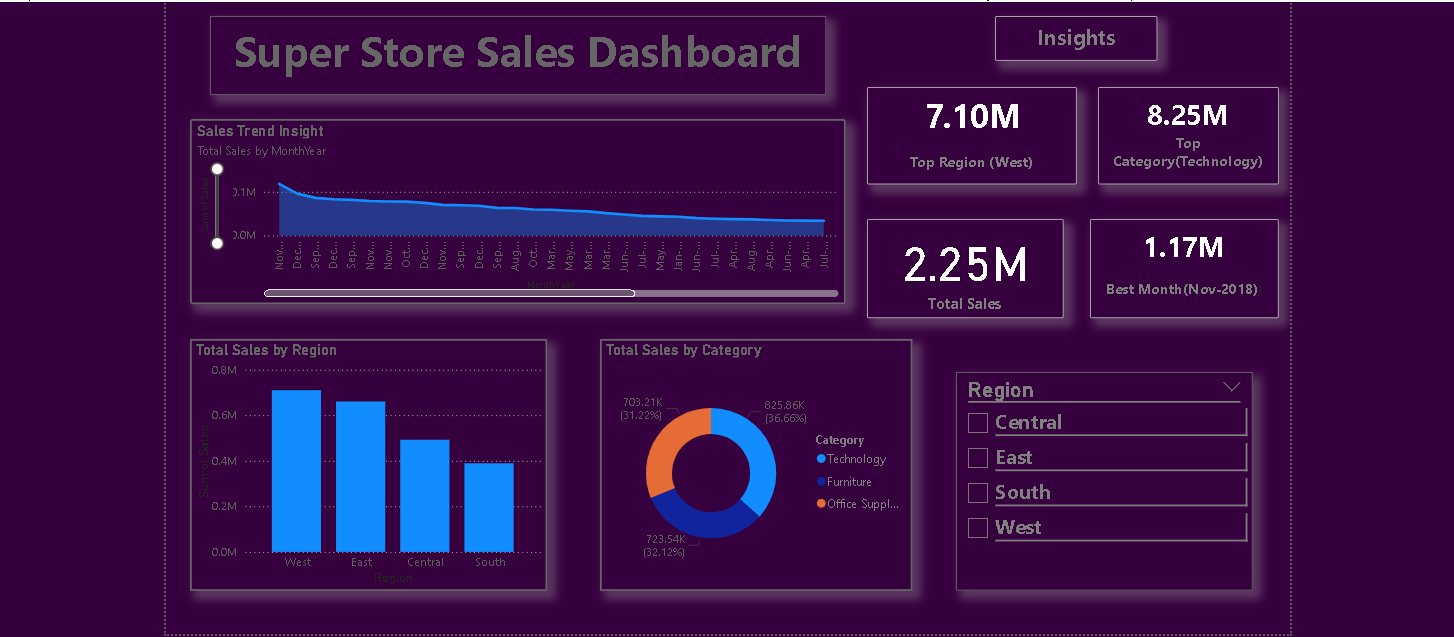

The page's visual inventory and layout, read from the dashboard file:
{"tool":"powerbi","page":{"name":"Page 1","canvas":[1280,720],"ordinal":0},"visuals":[{"type":"lineChart","title":"Sales Trend Insight","fields":{"Category":["Table1.MonthYear"],"Y":["Sum(Table1.Sales)"]},"box":[27,133.7,746.7,210.8],"z":0},{"type":"lineClusteredColumnComboChart","title":"Total Sales by Region","fields":{"Category":["Table1.Region"],"Y":["Sum(Table1.Sales)"]},"box":[27,384.3,407.4,286.6],"z":1000},{"type":"donutChart","title":"Total Sales by Category","fields":{"Category":["Table1.Category"],"Y":["Sum(Table1.Sales)"]},"box":[494.8,384.3,356,286.6],"z":2000},{"type":"slicer","fields":{"Values":["Table1.Region"]},"box":[899.6,421.5,338,249.3],"z":3000},{"type":"textbox","box":[50.1,15.4,701.7,90],"z":4000},{"type":"card","fields":{"Values":["Sum(Table1.Sales)"]},"box":[798.1,246.7,223.6,113.1],"z":5000},{"type":"textbox","box":[798.1,96.4,239,110.5],"z":6000},{"type":"textbox","box":[1052.5,246.7,214.6,113.1],"z":7000},{"type":"textbox","box":[1061.5,96.4,205.6,110.5],"z":8000},{"type":"textbox","box":[944.6,15.4,185.1,51.4],"z":9000}]}

Visuals, with their boxes on the page's 1280x720 design canvas (x1, y1, x2, y2). These are canvas units, not pixel positions in the 1454x637 screenshot, which may show the page scaled, cropped or inside an application window:
"Sales Trend Insight" lineChart: x1=27, y1=134, x2=774, y2=344
"Total Sales by Region" lineClusteredColumnComboChart: x1=27, y1=384, x2=434, y2=671
"Total Sales by Category" donutChart: x1=495, y1=384, x2=851, y2=671
slicer - Table1.Region: x1=900, y1=422, x2=1238, y2=671
textbox: x1=50, y1=15, x2=752, y2=105
card - Sum(Table1.Sales): x1=798, y1=247, x2=1022, y2=360
textbox: x1=798, y1=96, x2=1037, y2=207
textbox: x1=1052, y1=247, x2=1267, y2=360
textbox: x1=1062, y1=96, x2=1267, y2=207
textbox: x1=945, y1=15, x2=1130, y2=67
